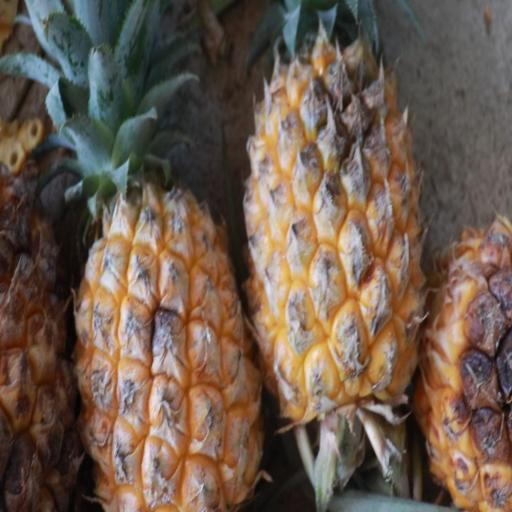Pineapple - v8 v1: (68, 0, 268, 512), (238, 0, 430, 443)
